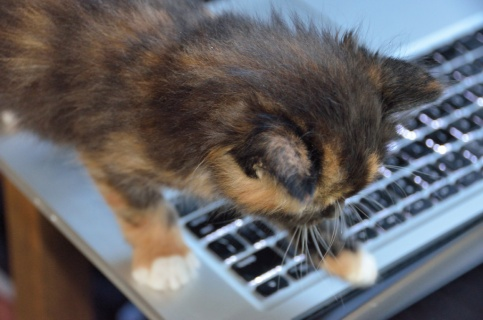Cat: (0, 0, 446, 293)
